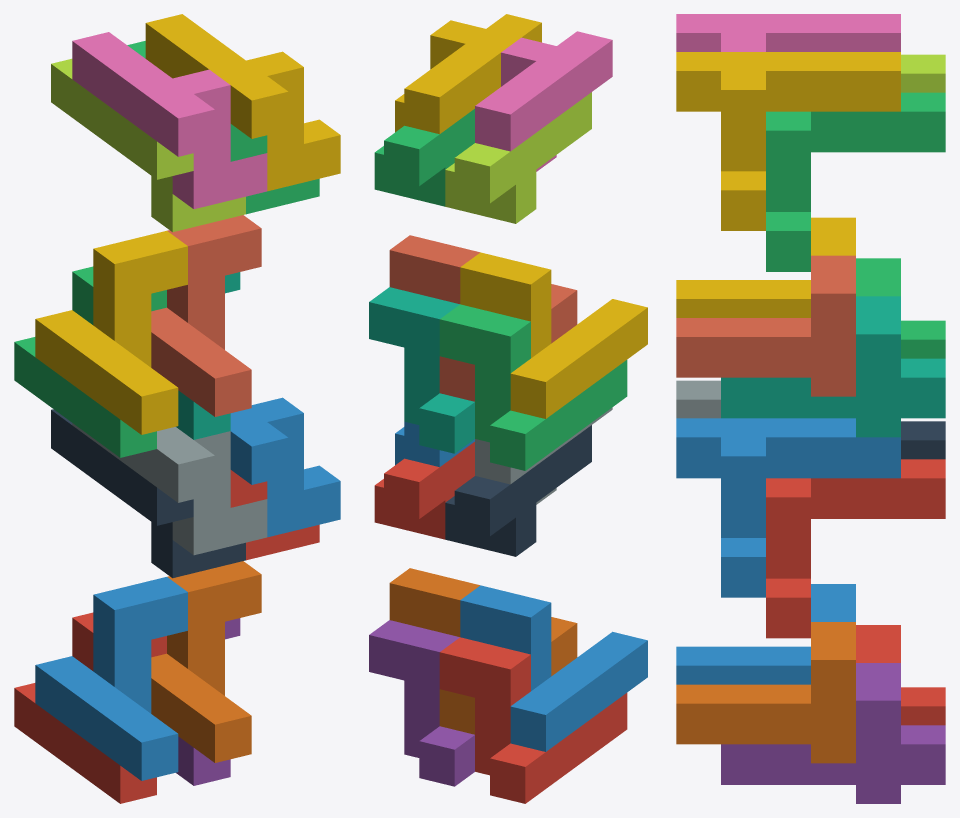
File: tiling.obj
3 renders of one model, left to right at view 1: azimuth 30°, elevation 25°; view 2: azimuth 150°, elevation 25°; view 3: azimuth 270°, elevation 25°, orthographic. The views are drawn at different scales.
Parts seen in each view (by area): view 1: copy_1_domain_4, copy_1_domain_2, copy_2_domain_4, copy_2_domain_8, copy_1_domain_8, copy_1_domain_6, copy_2_domain_2, copy_2_domain_6, copy_2_domain_3, copy_2_domain_1, copy_1_domain_1, copy_1_domain_3 (+4 smaller); view 2: copy_1_domain_2, copy_1_domain_4, copy_1_domain_1, copy_1_domain_3, copy_2_domain_4, copy_1_domain_5, copy_1_domain_7, copy_2_domain_8, copy_2_domain_1, copy_2_domain_3, copy_1_domain_6, copy_1_domain_8 (+4 smaller); view 3: copy_2_domain_8, copy_2_domain_6, copy_1_domain_6, copy_1_domain_8, copy_1_domain_7, copy_2_domain_7, copy_1_domain_5, copy_2_domain_5, copy_2_domain_4, copy_1_domain_2, copy_1_domain_4, copy_1_domain_3 (+4 smaller).
Part boxes in pixels (box(x1,y1,x2,y2)): copy_1_domain_4: box(35, 230, 187, 434); copy_1_domain_2: box(35, 577, 187, 780); copy_2_domain_4: box(72, 32, 267, 209); copy_2_domain_8: box(145, 14, 340, 191); copy_1_domain_8: box(151, 215, 261, 416); copy_1_domain_6: box(151, 561, 261, 762); copy_2_domain_2: box(72, 423, 267, 555); copy_2_domain_6: box(230, 397, 340, 537); copy_2_domain_3: box(51, 58, 245, 232); copy_2_domain_1: box(51, 409, 245, 578); copy_1_domain_1: box(14, 612, 166, 803); copy_1_domain_3: box(14, 266, 166, 457); copy_1_domain_2: box(460, 585, 647, 751); copy_1_domain_4: box(460, 252, 647, 418); copy_1_domain_1: box(439, 637, 627, 803); copy_1_domain_3: box(439, 304, 627, 470); copy_2_domain_4: box(475, 31, 612, 171); copy_1_domain_5: box(369, 620, 474, 786); copy_1_domain_7: box(369, 287, 474, 453); copy_2_domain_8: box(395, 14, 541, 134); copy_2_domain_1: box(445, 425, 591, 556); copy_2_domain_3: box(445, 92, 591, 223); copy_1_domain_6: box(389, 568, 577, 734); copy_1_domain_8: box(389, 235, 577, 401); copy_2_domain_8: box(676, 52, 900, 230); copy_2_domain_6: box(676, 418, 900, 597); copy_1_domain_6: box(676, 622, 855, 763); copy_1_domain_8: box(676, 255, 855, 396); copy_1_domain_7: box(721, 296, 945, 437); copy_2_domain_7: box(766, 92, 945, 271); copy_1_domain_5: box(721, 663, 945, 803); copy_2_domain_5: box(766, 459, 945, 638); copy_2_domain_4: box(676, 14, 900, 51); copy_1_domain_2: box(676, 584, 855, 684); copy_1_domain_4: box(676, 217, 855, 317); copy_1_domain_3: box(856, 258, 945, 358).
Bounding box in the file's own units: 6 × 18 × 6.
